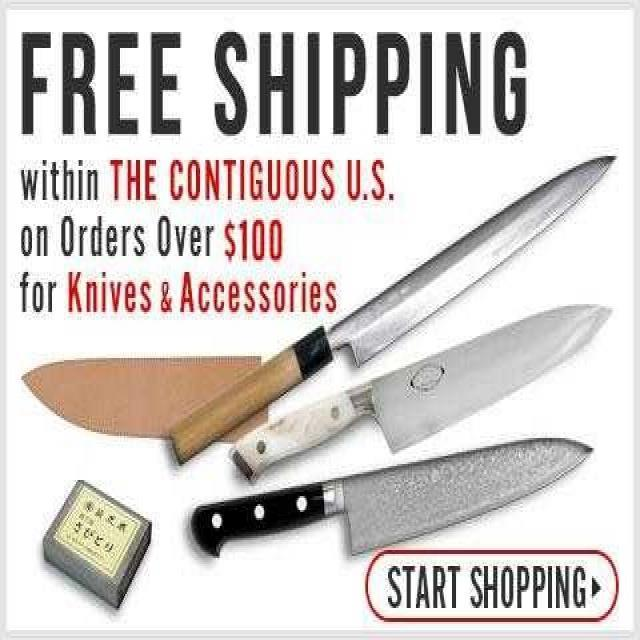knife: (161, 93, 614, 602)
